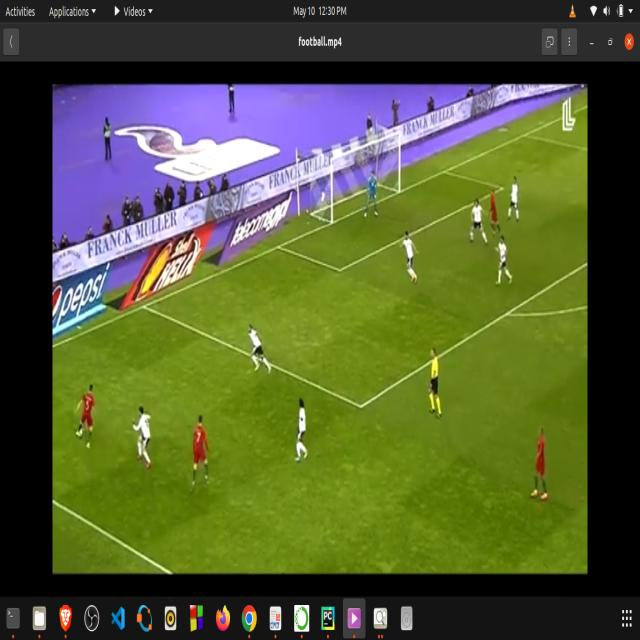Ball: (75, 424, 85, 441)
Goalkeeper: (364, 165, 382, 217)
Refree: (426, 342, 444, 428)
football-players: (190, 408, 213, 498), (530, 416, 552, 504), (78, 373, 99, 453), (245, 318, 272, 380), (132, 401, 154, 473), (401, 227, 423, 292), (292, 390, 308, 470), (468, 192, 490, 249), (495, 232, 513, 288), (486, 184, 503, 239), (508, 170, 522, 229)
